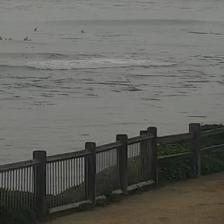surfer: (23, 36, 31, 41), (4, 37, 12, 40), (80, 30, 85, 34), (0, 36, 3, 40), (34, 28, 37, 32)
